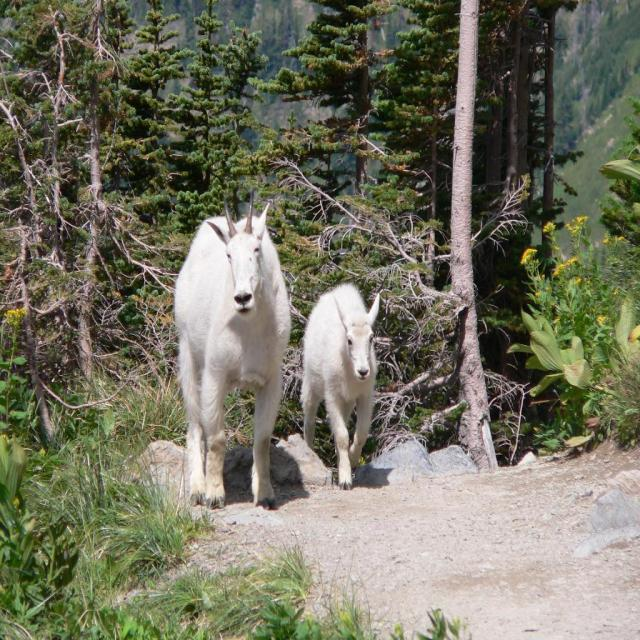Goat: (174, 187, 292, 514), (302, 279, 378, 487)
